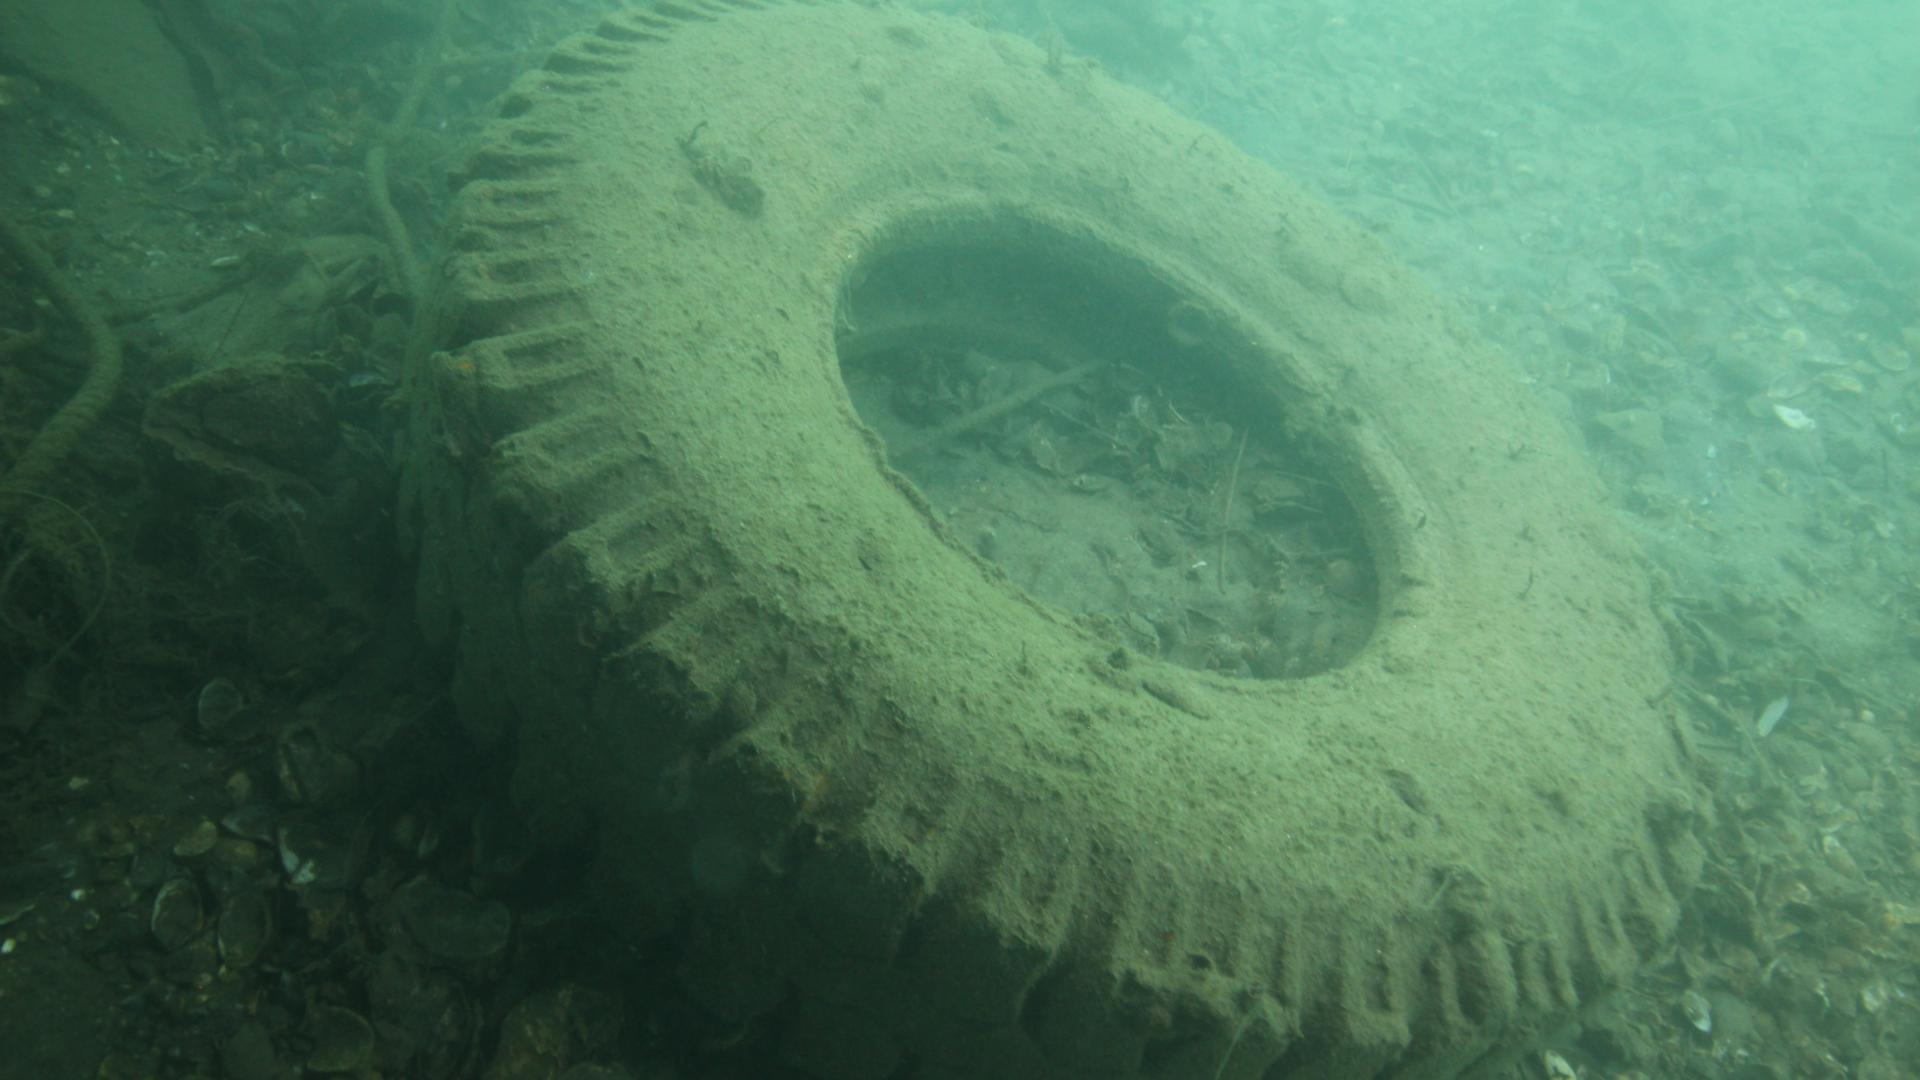rope: (0, 194, 127, 505)
tire: (400, 0, 1720, 1080)
